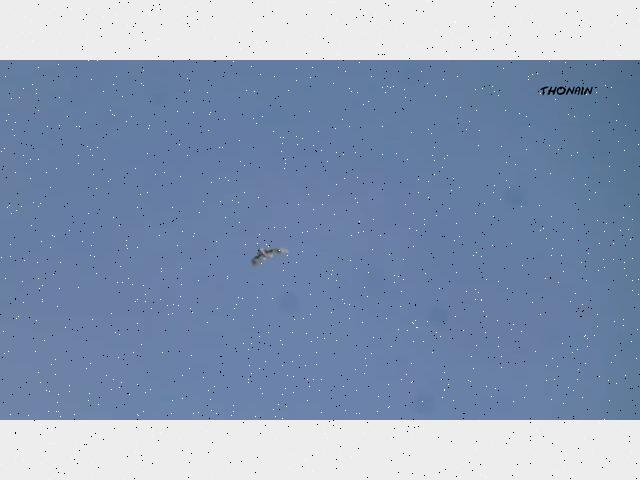Anti-Drone: (251, 247, 287, 265)
